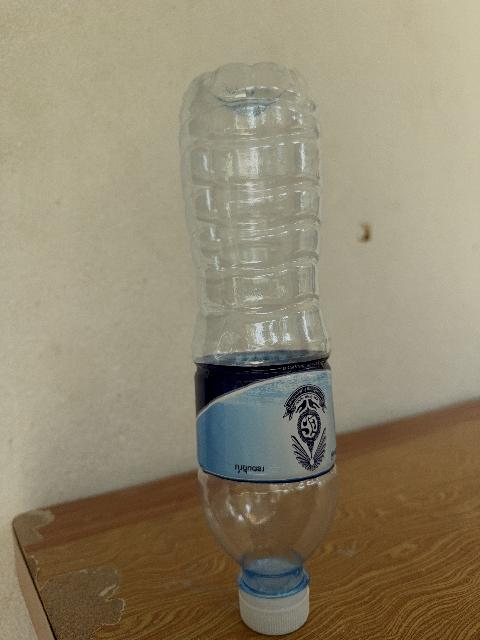bottle: (179, 64, 336, 634)
